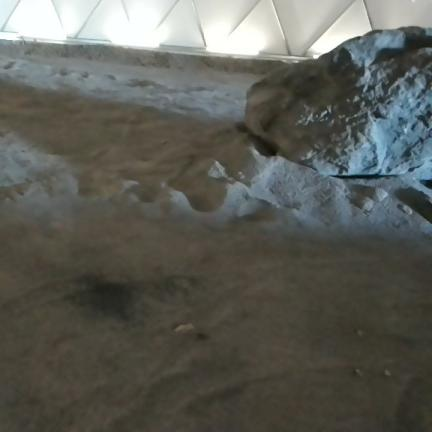Rock: (245, 27, 431, 179), (353, 196, 374, 212), (365, 188, 388, 202), (174, 323, 194, 332), (398, 204, 412, 215), (354, 368, 363, 377), (384, 370, 391, 376), (357, 330, 363, 335)
